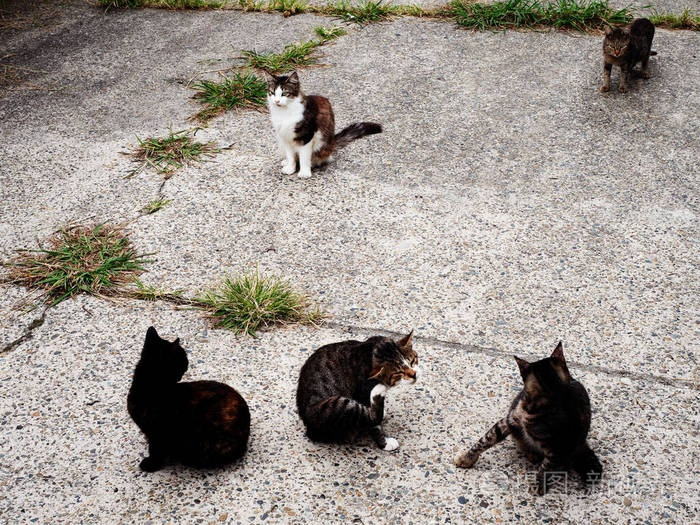cat: (455, 341, 603, 495), (126, 325, 252, 474), (296, 328, 421, 451), (262, 69, 384, 181), (599, 17, 658, 93)
